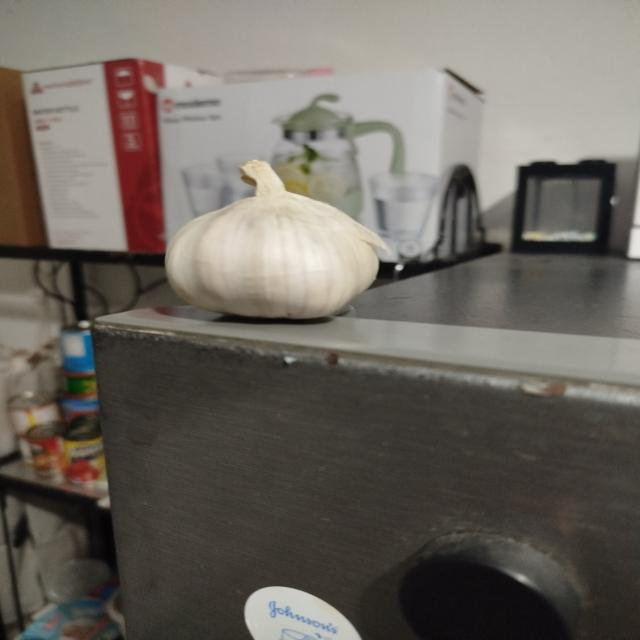garlic: (164, 159, 391, 320)
